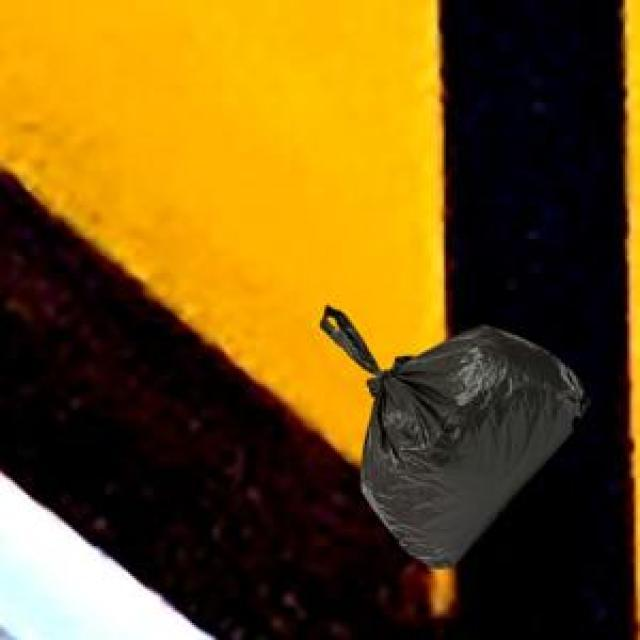Garbage_Bag: (316, 302, 586, 566)
